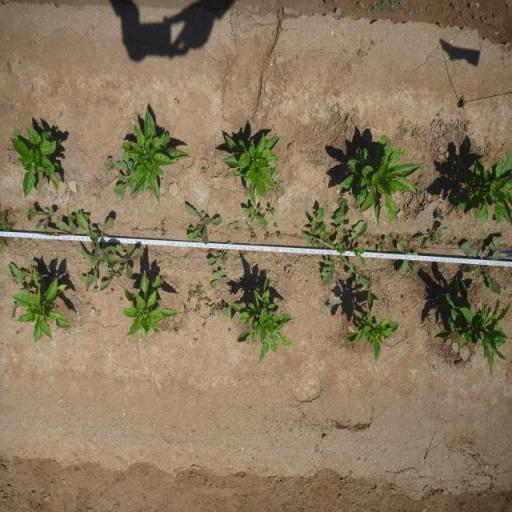plant: (342, 134, 423, 224), (128, 106, 186, 204), (442, 294, 512, 374), (231, 276, 293, 366), (451, 152, 512, 230), (10, 124, 66, 198), (348, 288, 400, 362), (125, 271, 175, 343), (223, 133, 274, 202), (19, 278, 72, 342)
weed: (320, 212, 370, 286), (77, 208, 116, 290), (460, 232, 506, 295), (185, 202, 223, 244), (188, 282, 220, 322), (106, 245, 141, 280), (396, 242, 420, 276), (24, 206, 56, 229), (114, 152, 130, 198), (7, 262, 33, 290), (310, 204, 330, 238), (208, 240, 234, 266), (420, 225, 446, 249), (38, 221, 77, 236), (0, 208, 14, 249), (100, 266, 120, 292), (242, 206, 268, 226), (208, 268, 230, 290), (372, 0, 406, 14), (270, 173, 286, 195), (105, 156, 121, 172), (374, 236, 389, 252), (246, 224, 258, 242), (228, 220, 242, 232), (160, 220, 168, 238), (221, 306, 230, 318), (267, 205, 276, 216), (200, 166, 207, 174), (276, 232, 283, 240), (361, 302, 368, 310), (327, 300, 332, 310), (264, 232, 270, 240), (174, 328, 180, 335), (202, 320, 206, 330), (192, 338, 198, 344), (273, 222, 279, 228), (227, 326, 231, 332), (180, 321, 182, 328)
